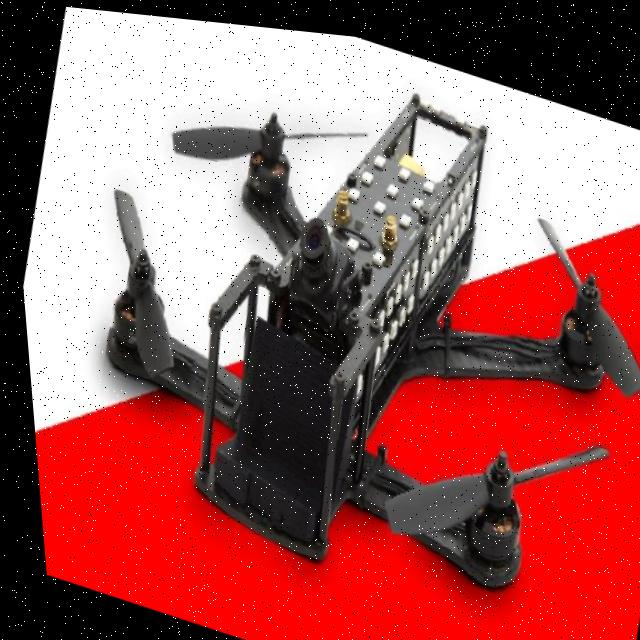drones: (25, 2, 640, 640)
